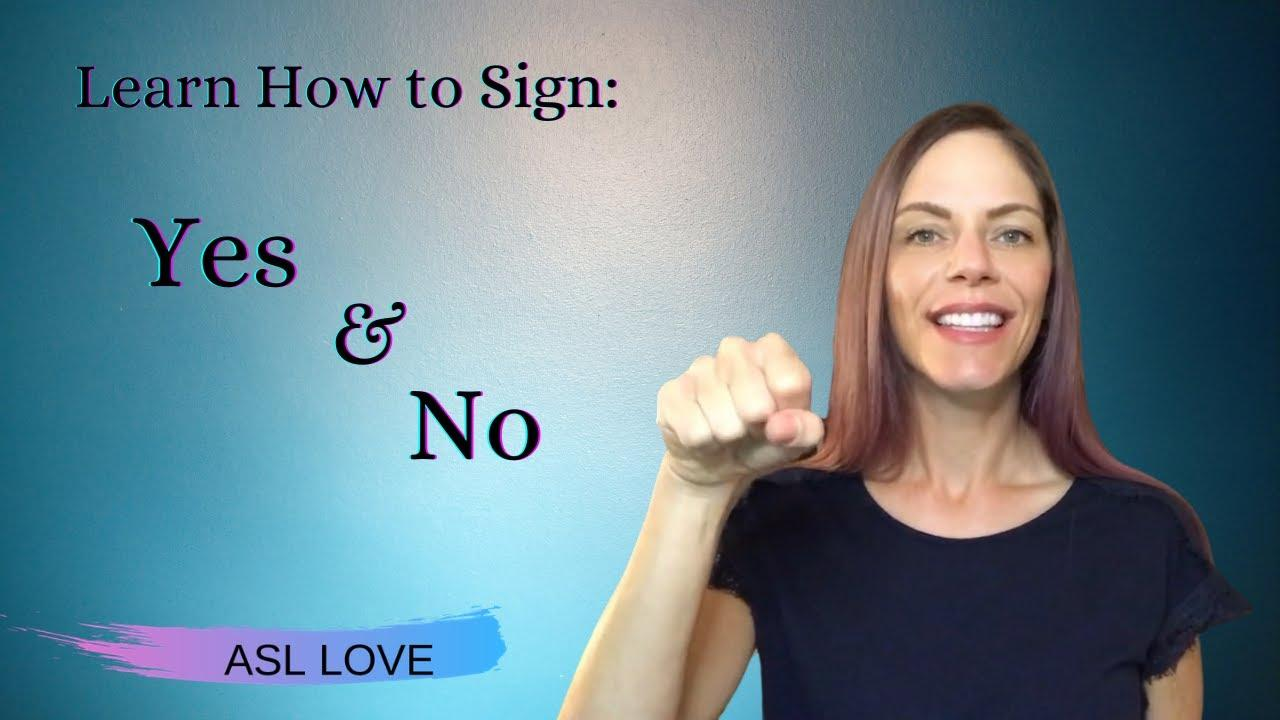Yes: (640, 317, 829, 488)
